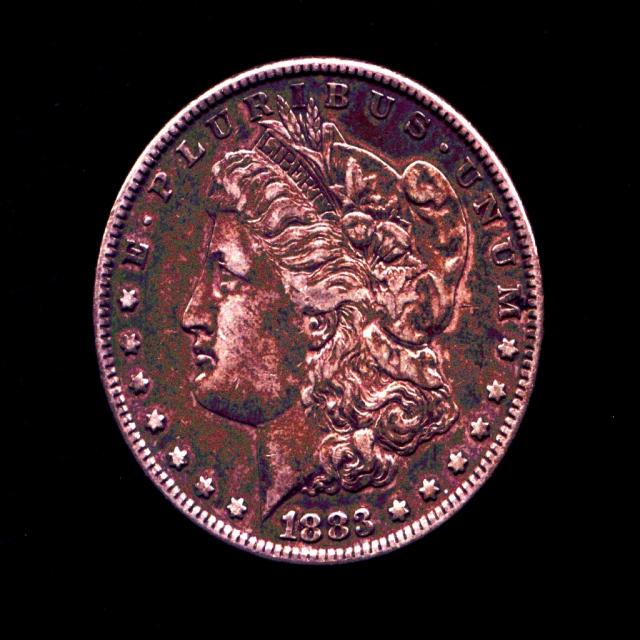Coin: (93, 57, 548, 565)
